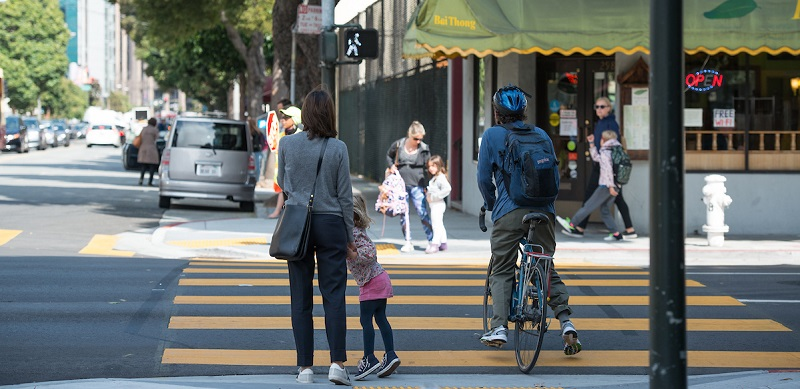person: (477, 86, 577, 353), (560, 130, 624, 244), (393, 121, 431, 254)
